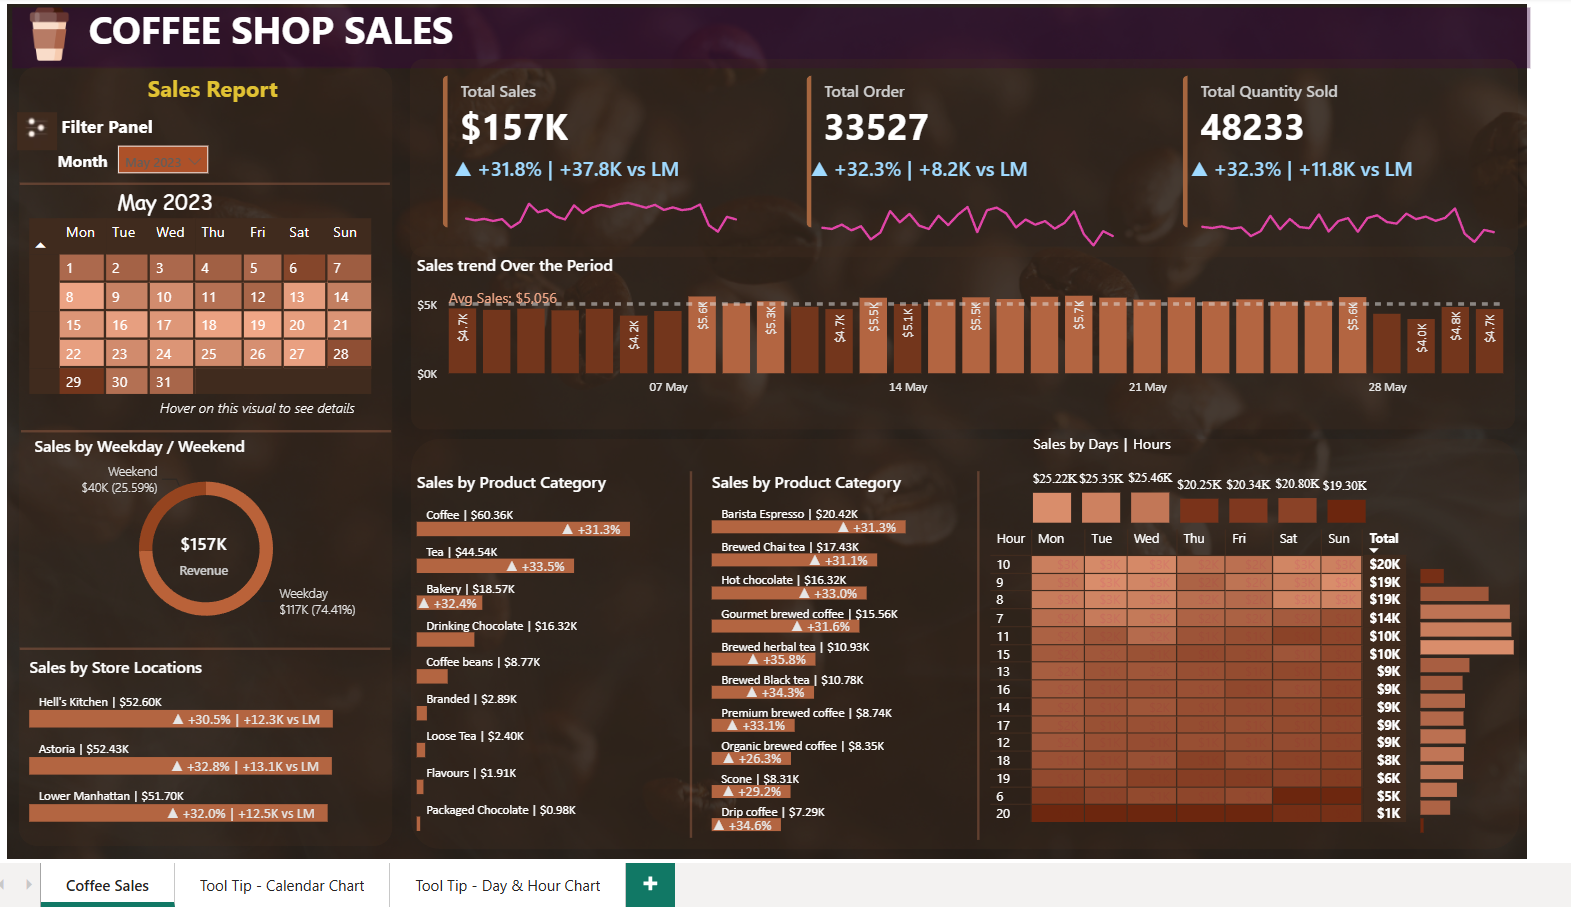

The page's visual inventory and layout, read from the dashboard file:
{"tool":"powerbi","page":{"name":"Page 1","canvas":[1400,850],"ordinal":0},"visuals":[{"type":"shape","box":[63.8,65,1278.4,51.5],"z":0},{"type":"shape","box":[69.1,115.2,315,656.8],"z":1000},{"type":"shape","box":[398.7,108.4,933.3,167],"z":2000},{"type":"textbox","box":[108.4,57,347.2,60.6],"z":3000},{"type":"cardVisual","title":"Total Sales","fields":{"Data":["1. DAX_Measure.Total Sales"]},"box":[411.4,107,265,158],"z":4000,"group":"g1"},{"type":"cardVisual","title":"Total Sales","fields":{"Data":["1. DAX_Measure.Total Order"]},"box":[717.7,107.5,284.6,158],"z":4000,"group":"g2"},{"type":"cardVisual","title":"Total Sales","fields":{"Data":["1. DAX_Measure.Total Quantity Sold"]},"box":[1034.4,107.8,284.6,158],"z":4000,"group":"g3"},{"type":"slicer","fields":{"Values":["Calendar_Tables.Month & Year"]},"box":[148.9,176.7,85.6,36.7],"z":4000},{"type":"group","id":"g1","title":"Group 1","box":[411.4,107,277.7,166.2],"z":5000},{"type":"group","id":"g2","title":"Group 1","box":[717.7,107.5,287.9,165.1],"z":6000},{"type":"lineChart","fields":{"Category":["Calendar_Tables.Date Hierarchy.Date"],"Y":["1. DAX_Measure.Total Sales"]},"box":[431.8,188.7,257.2,84.5],"z":6000,"group":"g1"},{"type":"lineChart","fields":{"Category":["Calendar_Tables.Date Hierarchy.Date"],"Y":["1. DAX_Measure.Total Quantity Sold"]},"box":[1050.8,189.4,275.5,83],"z":6000,"group":"g3"},{"type":"lineChart","fields":{"Category":["Calendar_Tables.Date Hierarchy.Date"],"Y":["1. DAX_Measure.Total Order"]},"box":[731,189.6,274.6,83],"z":6000,"group":"g2"},{"type":"group","id":"g3","title":"Group 1","box":[1034.4,107.8,291.9,164.6],"z":7000},{"type":"group","id":"g4","title":"Group 2","box":[73.8,207.5,303.8,220],"z":8000},{"type":"pivotTable","fields":{"Columns":["Calendar_Tables.Day Name"],"Rows":["Calendar_Tables.Week Number"],"Values":["Min(Calendar_Tables.Day Number)"]},"box":[73.8,237.5,303.8,172.5],"z":8000,"group":"g4"},{"type":"card","fields":{"Values":["Min(Calendar_Tables.Month & Year)"]},"box":[143.8,207.5,97.5,47.5],"z":9000,"group":"g4"},{"type":"shape","box":[71.7,401.7,311.7,40],"z":9000},{"type":"shape","box":[70,193.3,311.7,40],"z":10000},{"type":"card","fields":{"Values":["1. DAX_Measure.Foot Notes"]},"box":[176.3,383.7,190,43.8],"z":10000,"group":"g4"},{"type":"donutChart","title":"Sales by Weekday / Weekend","fields":{"Category":["Calendar_Tables.Weekday / Weekend"],"Y":["1. DAX_Measure.Total Sales"]},"box":[77.9,425.7,299.3,174.3],"z":11000},{"type":"card","fields":{"Values":["1. DAX_Measure.Total Sales"]},"box":[186.4,495,78.6,61.4],"z":12000},{"type":"shape","box":[70,585,312.1,40],"z":13000},{"type":"clusteredBarChart","title":"Sales by Store Locations","fields":{"Category":["Coffee_Shop_Sales_project.store_location"],"Y":["1. DAX_Measure.Placeholder","1. DAX_Measure.Total Sales"]},"box":[73.3,611.7,301.7,146.7],"z":14000},{"type":"shape","box":[400,266.2,930,154.6],"z":15000},{"type":"columnChart","title":"Sales trend Over the Period","fields":{"Category":["Coffee_Shop_Sales_project.transaction_date"],"Y":["1. DAX_Measure.Total Sales"]},"box":[400,272.4,930,128.8],"z":16000},{"type":"shape","box":[400.5,428.1,933.3,345.4],"z":17000},{"type":"clusteredBarChart","title":"Sales by Product Category","fields":{"Category":["Coffee_Shop_Sales_project.product_category"],"Y":["1. DAX_Measure.Placeholder","1. DAX_Measure.Total Sales"]},"box":[400.5,455.6,248,308.7],"z":18000},{"type":"shape","box":[628.3,455.6,14.7,308.7],"z":19000},{"type":"clusteredBarChart","title":"Sales by Product Category","fields":{"Category":["Coffee_Shop_Sales_project.product_type"],"Y":["1. DAX_Measure.Placeholder","1. DAX_Measure.Total Sales"]},"box":[648.6,455.6,249.9,308.7],"z":20000},{"type":"shape","box":[869,455.6,16.5,310.5],"z":21000},{"type":"pivotTable","fields":{"Columns":["Calendar_Tables.Day Name"],"Rows":["Coffee_Shop_Sales_project.Hour"],"Values":["1. DAX_Measure.Total Sales"]},"box":[883.3,500,373.3,272.2],"z":22000},{"type":"barChart","fields":{"Category":["Coffee_Shop_Sales_project.Hour"],"Y":["1. DAX_Measure.Total Sales"]},"box":[1245.6,525.6,90,240],"z":23000},{"type":"columnChart","title":"Sales by Days | Hours","fields":{"Category":["Calendar_Tables.Day Name"],"Y":["1. DAX_Measure.Total Sales"]},"box":[918.9,424.4,291.1,81.1],"z":24000},{"type":"textbox","box":[88.3,180.4,69.9,33.1],"z":25000},{"type":"textbox","box":[166.7,115.6,133.3,35.6],"z":26000},{"type":"textbox","box":[95.6,150,96.7,30],"z":27000},{"type":"image","box":[68.9,152.2,33.3,33.3],"z":28000},{"type":"image","box":[64.4,65,62.8,45],"z":29000}]}

Visuals, with their boxes on the page's 1400x850 design canvas (x1, y1, x2, y2). These are canvas units, not pixel positions in the 1571x907 screenshot, which may show the page scaled, cropped or inside an application window:
shape: l=64, t=65, r=1342, b=116
shape: l=69, t=115, r=384, b=772
shape: l=399, t=108, r=1332, b=275
textbox: l=108, t=57, r=456, b=118
"Total Sales" cardVisual: l=411, t=107, r=676, b=265
"Total Sales" cardVisual: l=718, t=108, r=1002, b=266
"Total Sales" cardVisual: l=1034, t=108, r=1319, b=266
slicer - Calendar_Tables.Month & Year: l=149, t=177, r=234, b=213
"Group 1" group: l=411, t=107, r=689, b=273
"Group 1" group: l=718, t=108, r=1006, b=273
lineChart - Calendar_Tables.Date Hierarchy.Date x 1. DAX_Measure.Total Sales: l=432, t=189, r=689, b=273
lineChart - Calendar_Tables.Date Hierarchy.Date x 1. DAX_Measure.Total Quantity Sold: l=1051, t=189, r=1326, b=272
lineChart - Calendar_Tables.Date Hierarchy.Date x 1. DAX_Measure.Total Order: l=731, t=190, r=1006, b=273
"Group 1" group: l=1034, t=108, r=1326, b=272
"Group 2" group: l=74, t=208, r=378, b=428
pivotTable - Calendar_Tables.Day Name x Calendar_Tables.Week Number: l=74, t=238, r=378, b=410
card - Min(Calendar_Tables.Month & Year): l=144, t=208, r=241, b=255
shape: l=72, t=402, r=383, b=442
shape: l=70, t=193, r=382, b=233
card - 1. DAX_Measure.Foot Notes: l=176, t=384, r=366, b=428
"Sales by Weekday / Weekend" donutChart: l=78, t=426, r=377, b=600
card - 1. DAX_Measure.Total Sales: l=186, t=495, r=265, b=556
shape: l=70, t=585, r=382, b=625
"Sales by Store Locations" clusteredBarChart: l=73, t=612, r=375, b=758
shape: l=400, t=266, r=1330, b=421
"Sales trend Over the Period" columnChart: l=400, t=272, r=1330, b=401
shape: l=400, t=428, r=1334, b=774
"Sales by Product Category" clusteredBarChart: l=400, t=456, r=648, b=764
shape: l=628, t=456, r=643, b=764
"Sales by Product Category" clusteredBarChart: l=649, t=456, r=898, b=764
shape: l=869, t=456, r=886, b=766
pivotTable - Calendar_Tables.Day Name x Coffee_Shop_Sales_project.Hour: l=883, t=500, r=1257, b=772
barChart - Coffee_Shop_Sales_project.Hour x 1. DAX_Measure.Total Sales: l=1246, t=526, r=1336, b=766
"Sales by Days | Hours" columnChart: l=919, t=424, r=1210, b=506
textbox: l=88, t=180, r=158, b=214
textbox: l=167, t=116, r=300, b=151
textbox: l=96, t=150, r=192, b=180
image: l=69, t=152, r=102, b=186
image: l=64, t=65, r=127, b=110
